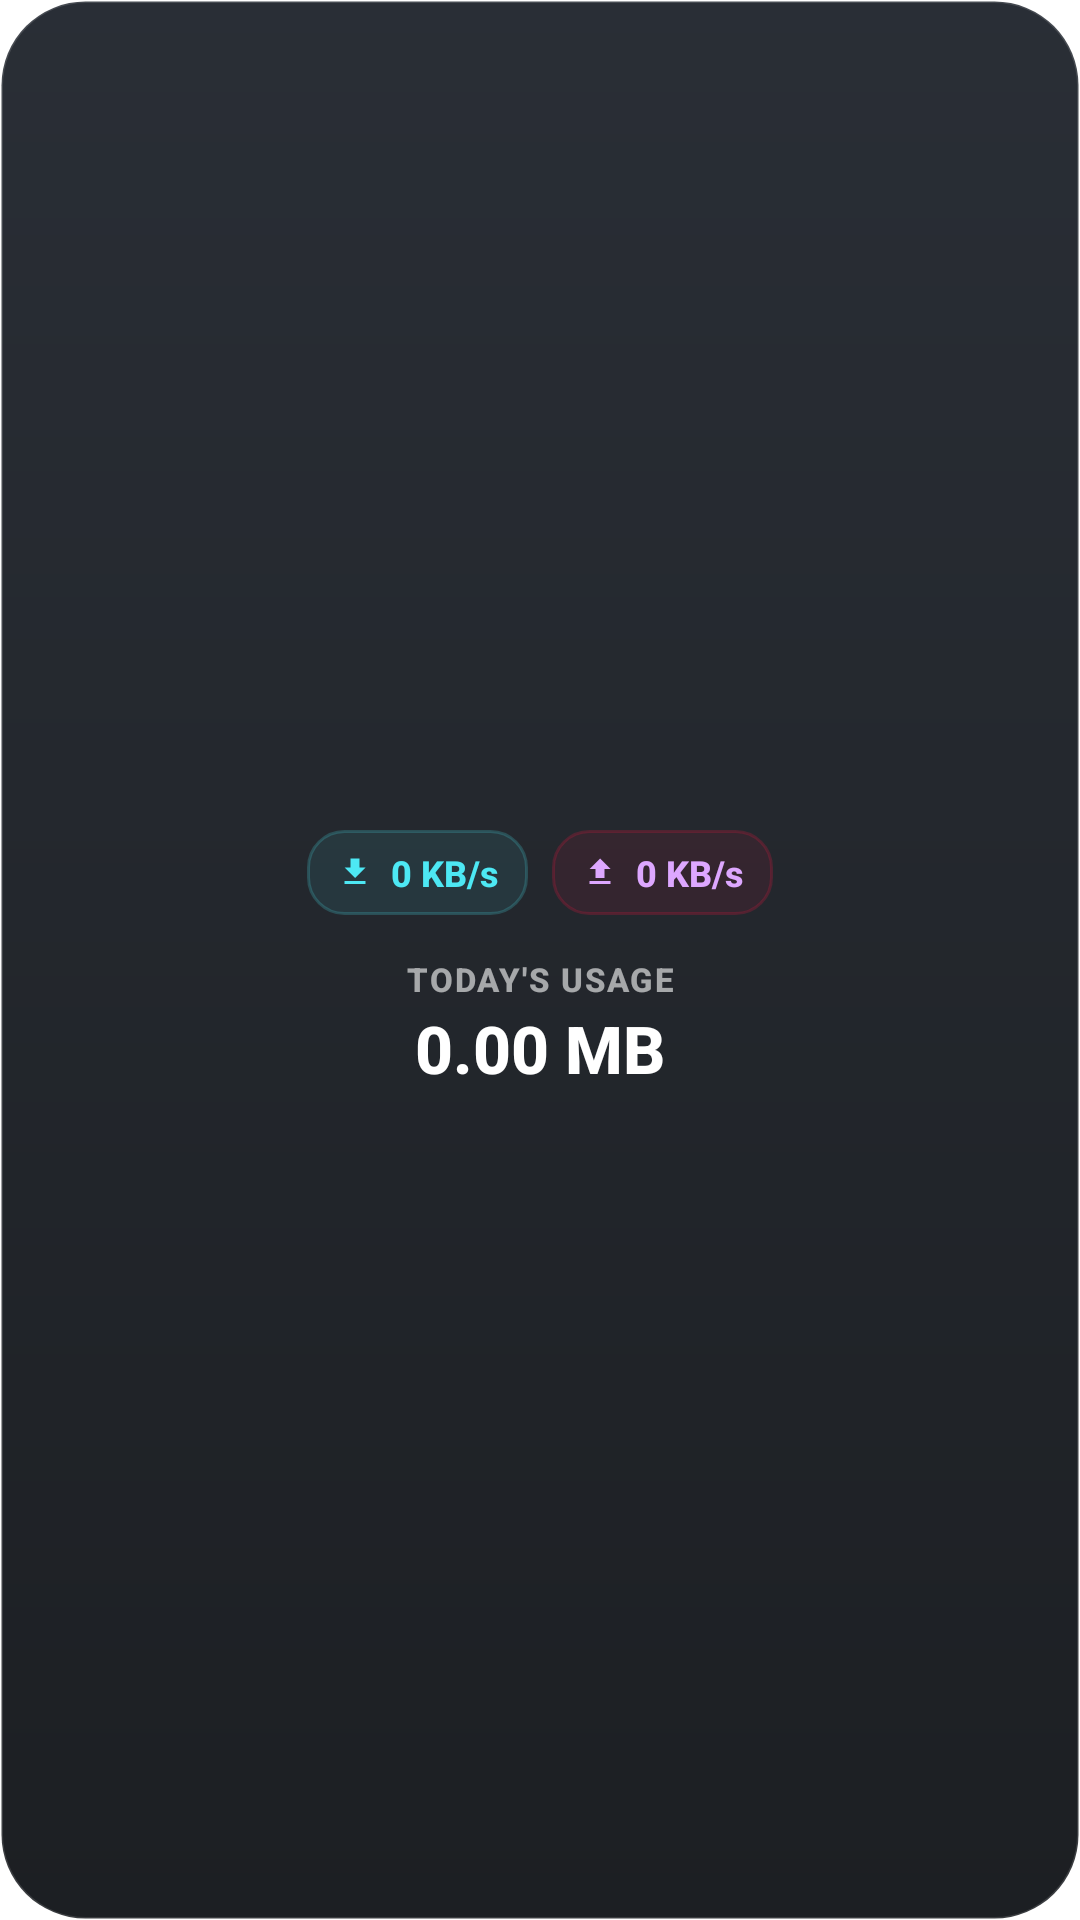

Icon click points for this 1080px×1920px phone screenshot, format (x,y):
Download speed: (355,871)
Upload speed: (600,871)
